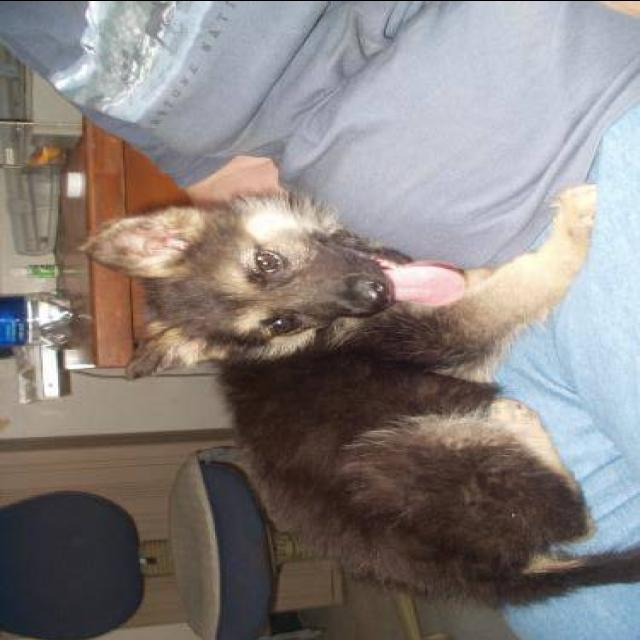dog: (78, 172, 640, 621)
